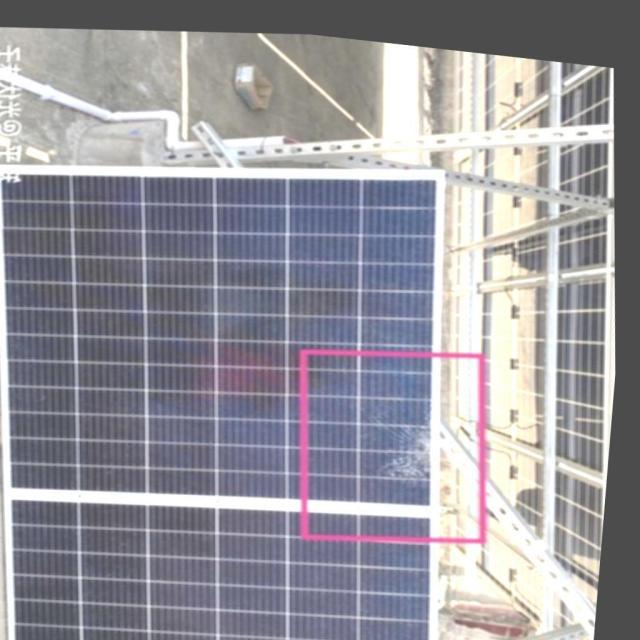cracked: (361, 421, 438, 506)
